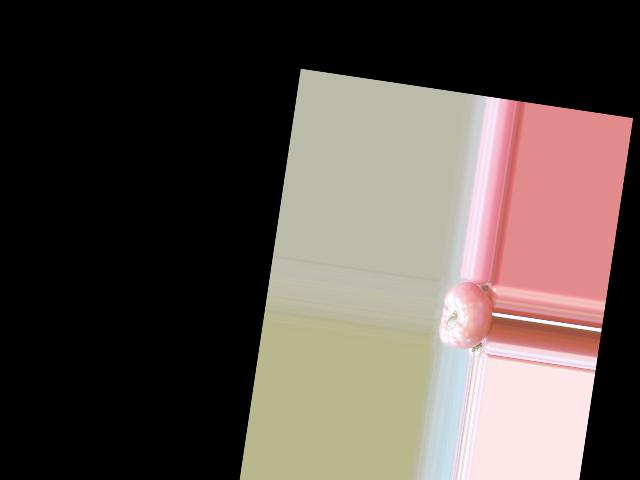tomato: (437, 277, 497, 352)
